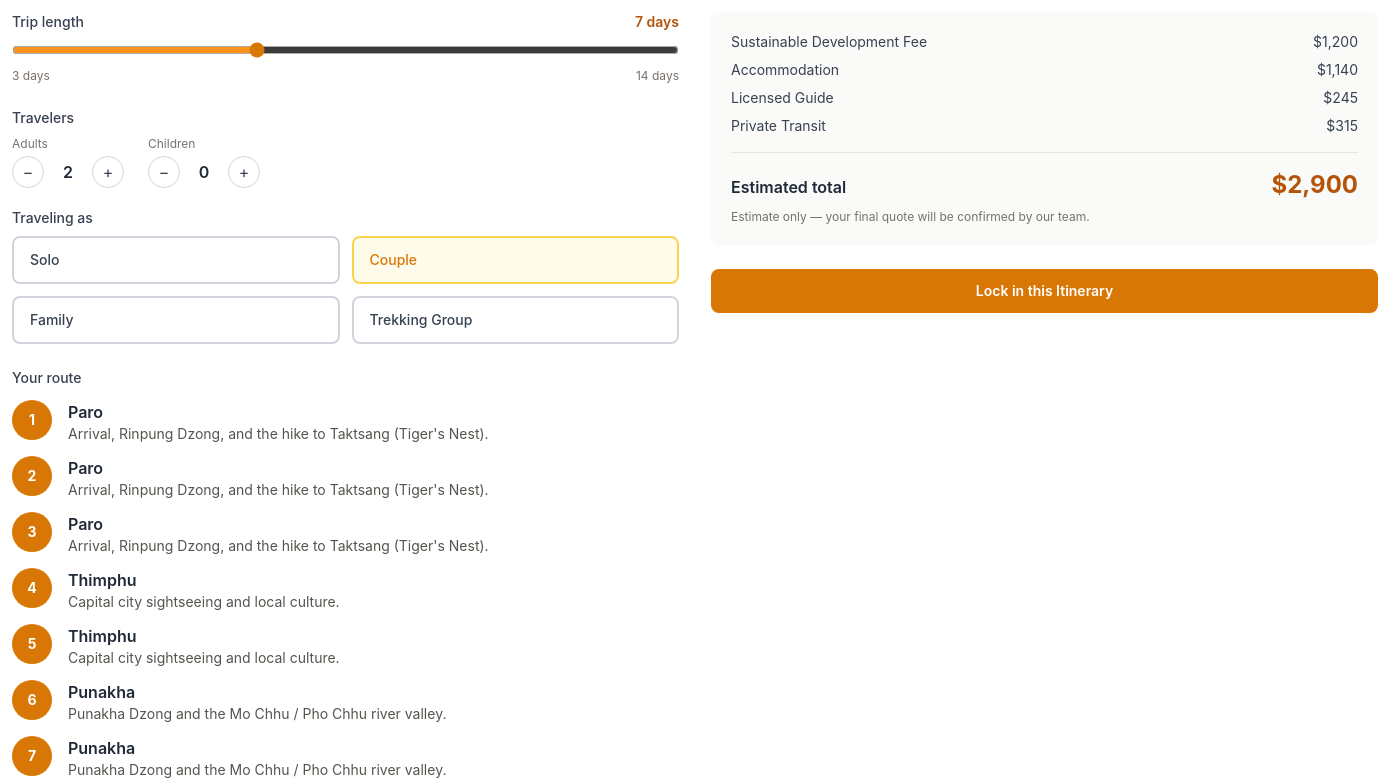
Test case: JourneyArchitect › updates the displayed duration and total cost when the slider moves
Set the slider to "14": (671, 50) [12,42,679,58]
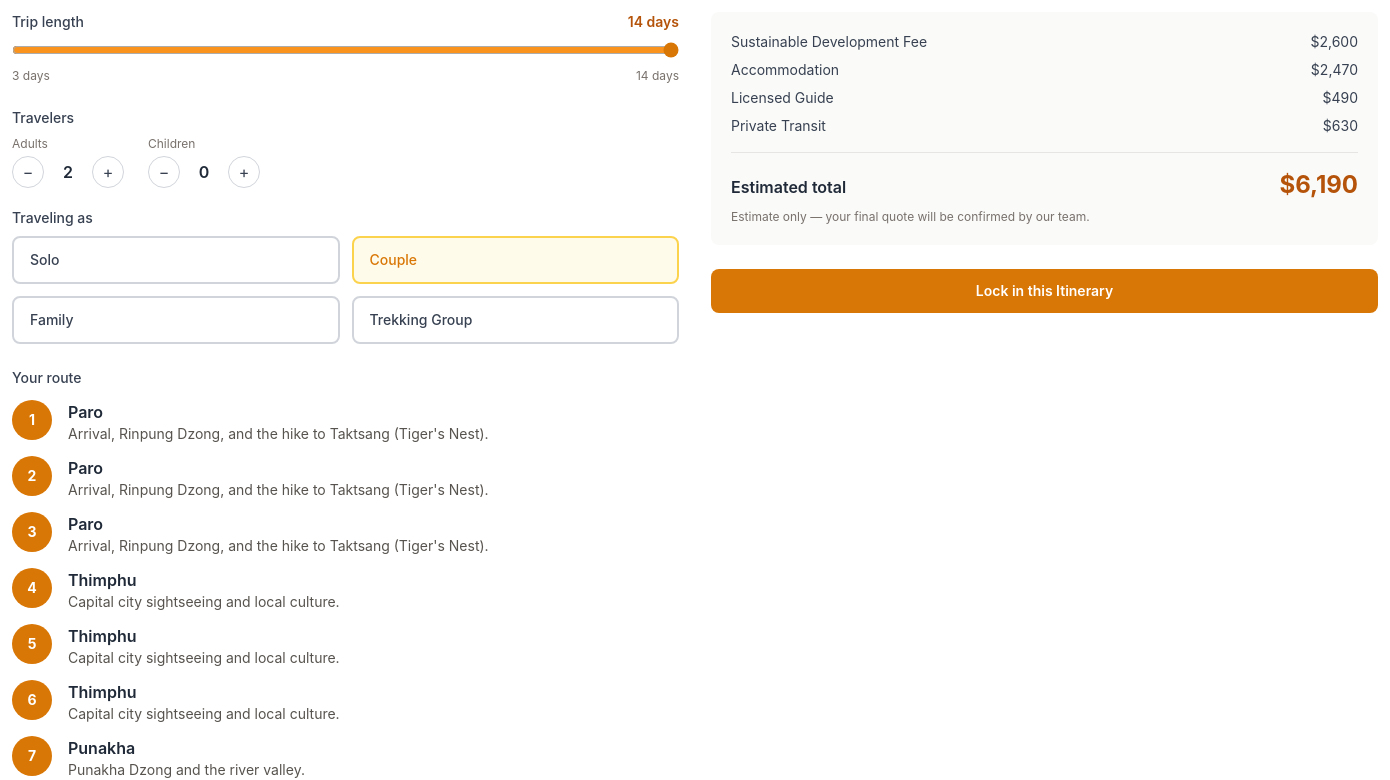
Expected: the text "14 days" in the row of "Trip length" is shown, [628,12,679,32]
